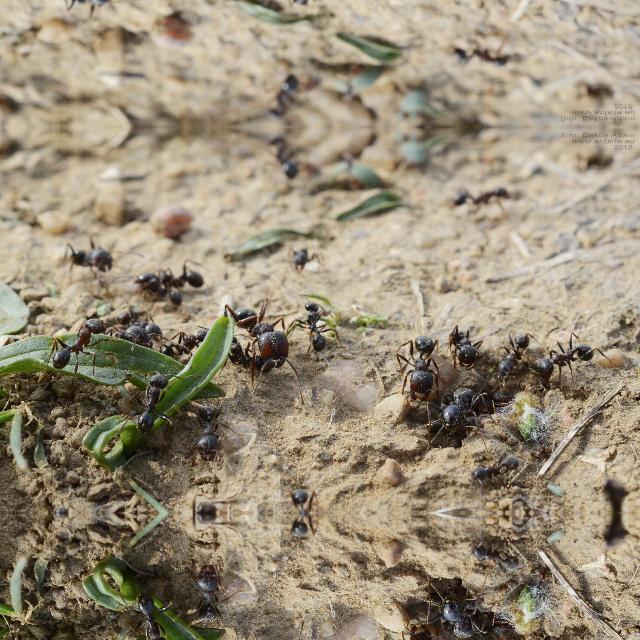Messor: (234, 284, 288, 381), (179, 394, 231, 466), (179, 560, 231, 630), (126, 367, 174, 441), (50, 236, 130, 280), (140, 248, 220, 290), (427, 382, 478, 444), (56, 304, 106, 366), (440, 176, 520, 214), (440, 38, 520, 76), (426, 581, 477, 640), (137, 266, 207, 306), (125, 584, 174, 640), (530, 343, 598, 383), (488, 322, 532, 382), (459, 449, 521, 491), (459, 534, 521, 576), (274, 138, 318, 194), (274, 58, 318, 114), (403, 322, 435, 394), (302, 292, 336, 352), (444, 322, 484, 372), (119, 312, 168, 348), (224, 331, 260, 379), (49, 0, 130, 16), (286, 241, 318, 279), (288, 512, 324, 538), (288, 488, 324, 512), (115, 306, 142, 328), (285, 0, 318, 11)
